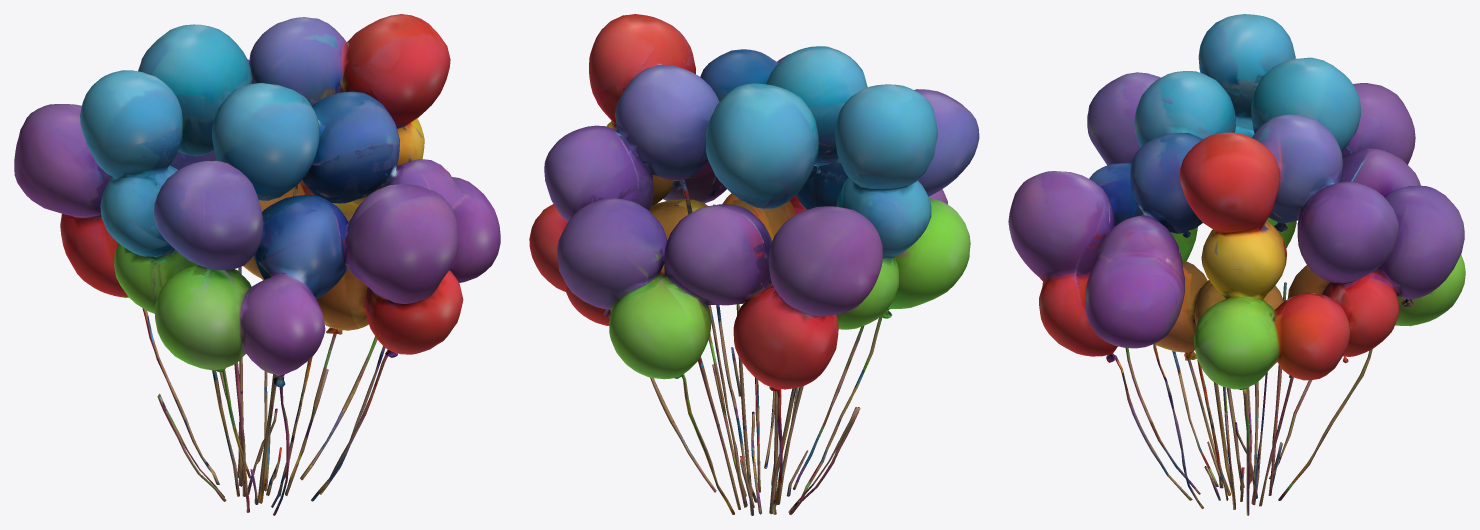
Rendered from balloons.glb.
3 renders of one model, left to right at view 1: azimuth 30°, elevation 25°; view 2: azimuth 150°, elevation 25°; view 3: azimuth 270°, elevation 25°, orthographic. The views are drawn at different scales.
Parts seen in each view (by area): view 1: Mesh_0; view 2: Mesh_0; view 3: Mesh_0.
Part boxes in pixels (bbox=[...]): Mesh_0: bbox=[14, 14, 500, 515]; Mesh_0: bbox=[529, 14, 979, 515]; Mesh_0: bbox=[1008, 14, 1465, 515].
Bounding box in the file's own units: 0.8604 × 1 × 0.9774.
1 material, 1 textured.
